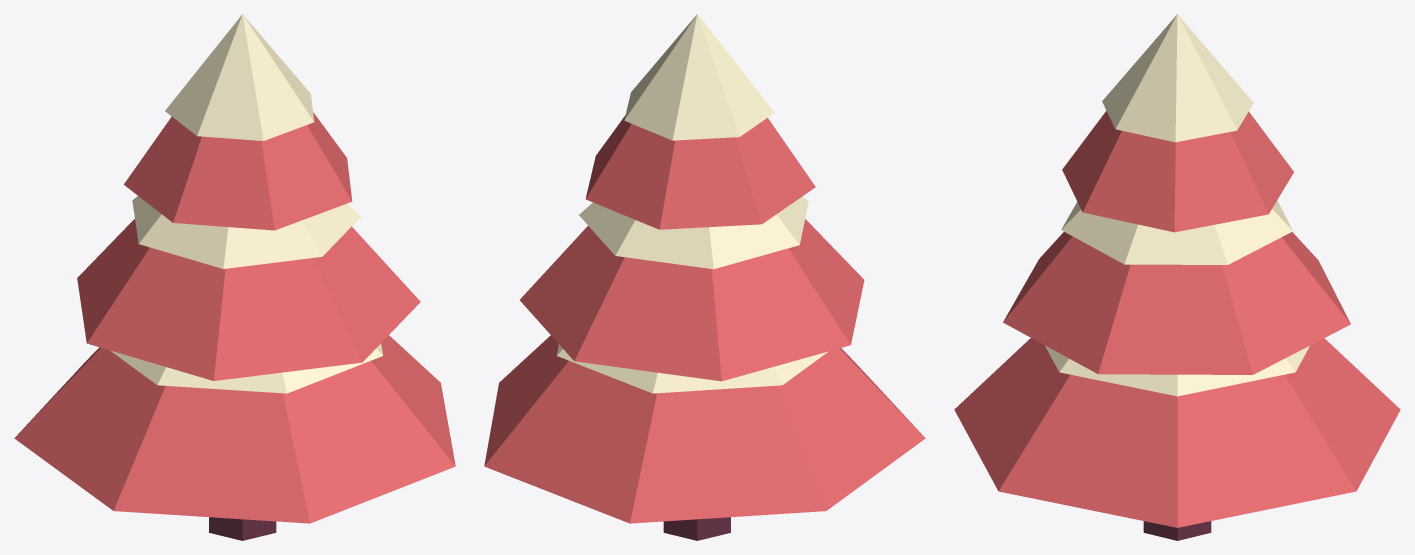
File: pine.glb
3 renders of one model, left to right at view 1: azimuth 30°, elevation 25°; view 2: azimuth 150°, elevation 25°; view 3: azimuth 270°, elevation 25°, orthographic.
Visible parts, largest first — view 1: Low, Mid, Tip, SnowTip, SnowMid, SnowLow, Trunk; view 2: Low, Mid, Tip, SnowTip, SnowMid, SnowLow, Trunk; view 3: Low, Mid, Tip, SnowTip, SnowMid, SnowLow, Trunk.
Part boxes in pixels (x1,y1,x2,y2): Low: (14, 335, 455, 523); Mid: (77, 219, 420, 380); Tip: (124, 112, 352, 230); SnowTip: (165, 14, 314, 140); SnowMid: (132, 196, 361, 268); SnowLow: (110, 344, 383, 393); Trunk: (209, 517, 276, 540); Low: (484, 335, 925, 523); Mid: (520, 219, 864, 381); Tip: (585, 115, 815, 229); SnowTip: (624, 14, 774, 140); SnowMid: (579, 196, 808, 269); SnowLow: (556, 344, 828, 393); Trunk: (663, 517, 730, 540); Low: (954, 338, 1400, 527); Mid: (1003, 232, 1350, 374); Tip: (1062, 111, 1293, 232); SnowTip: (1102, 14, 1253, 142); SnowMid: (1061, 200, 1292, 264); SnowLow: (1045, 345, 1309, 396); Trunk: (1143, 521, 1211, 540).
Size of the model in its own units: 1.9 by 2.46 by 1.95.
